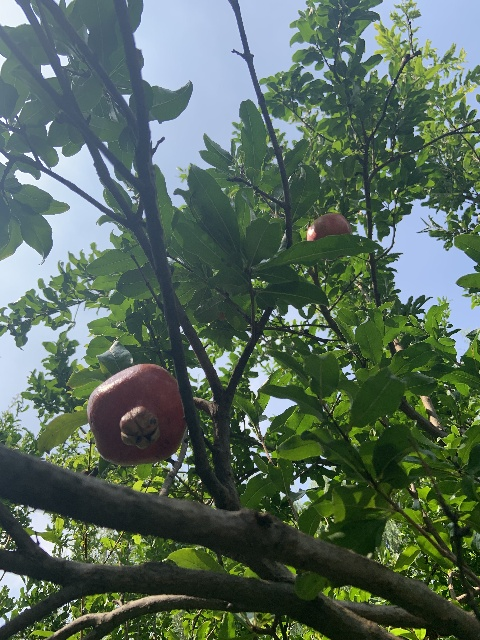ripe: (87, 363, 186, 464), (306, 212, 352, 240)
